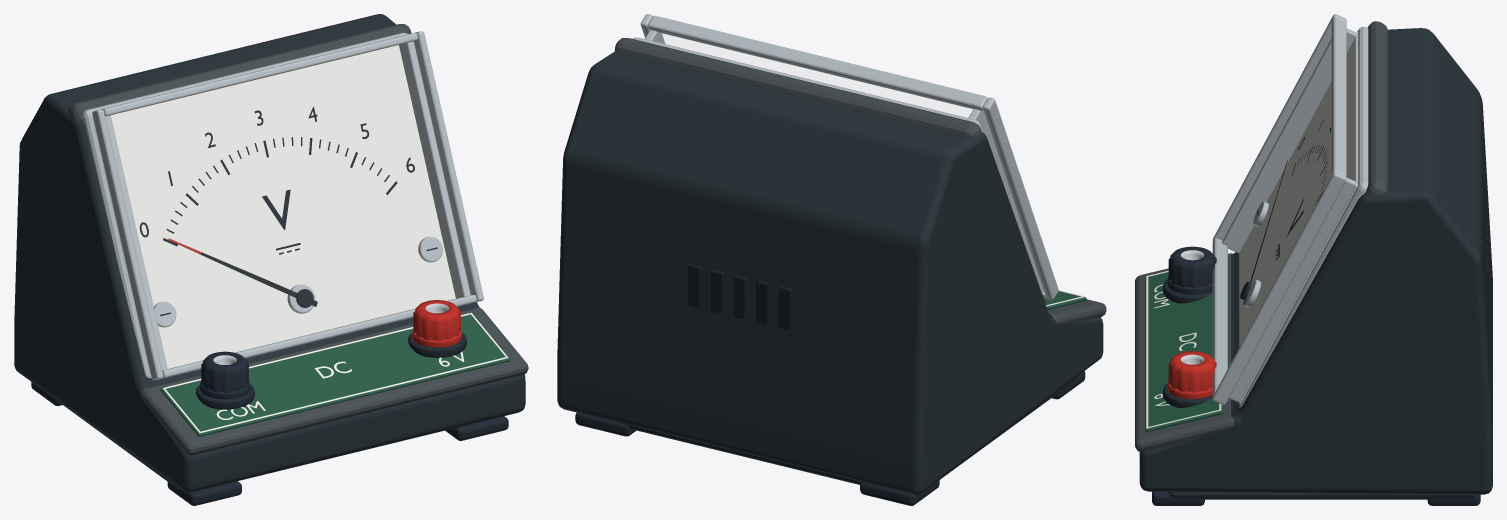
The model's file is analog-voltmeter.glb.
3 views of the same model, side by side, from view 1: azimuth 30°, elevation 25°; view 2: azimuth 150°, elevation 25°; view 3: azimuth 270°, elevation 25° (orthographic). The views are drawn at different scales.
Visible parts, largest first — view 1: Pale printed scale plate, One-piece tapered meter shell, Green laminate terminal board, Molded terminal shelf, Face window spacing rib.001, Meter head sealing rim, Polished window edge, Polished window edge.001, Dial plate backing, Polished window edge.003, Polished window edge.002, p binding socket (+8 smaller); view 2: One-piece tapered meter shell, Meter head sealing rim, Polished window edge.003, Polished window edge, Recessed bottom cover, Dial plate backing, Face window spacing rib, Molded terminal shelf, Rubber foot.001, Rubber foot.003; view 3: One-piece tapered meter shell, Pale printed scale plate, Green laminate terminal board, Face window spacing rib, Polished window edge.001, Molded terminal shelf, Meter head sealing rim, Dial plate backing, Face window spacing rib.001, Polished window edge, Polished window edge.003, Polished window edge.002 (+8 smaller).
Boxes of the visible parts, box(x1,y1,x2,y2) form: Pale printed scale plate: box(92, 45, 455, 374); One-piece tapered meter shell: box(14, 14, 525, 492); Green laminate terminal board: box(160, 313, 509, 436); Molded terminal shelf: box(140, 307, 528, 455); Face window spacing rib.001: box(399, 41, 470, 298); Meter head sealing rim: box(68, 24, 411, 120); Polished window edge: box(92, 109, 163, 380); Polished window edge.001: box(414, 31, 483, 301); Dial plate backing: box(82, 32, 407, 378); Polished window edge.003: box(100, 33, 418, 116); Polished window edge.002: box(162, 295, 476, 378); p binding socket: box(413, 300, 460, 341); One-piece tapered meter shell: box(557, 51, 1103, 494); Meter head sealing rim: box(614, 38, 982, 139); Polished window edge.003: box(648, 15, 987, 110); Polished window edge: box(982, 97, 1058, 300); Recessed bottom cover: box(583, 377, 1076, 495); Dial plate backing: box(633, 37, 982, 132); Face window spacing rib: box(968, 109, 1043, 294); Molded terminal shelf: box(1048, 299, 1106, 324); Rubber foot.001: box(860, 480, 939, 505); Rubber foot.003: box(575, 412, 636, 436); One-piece tapered meter shell: box(1139, 28, 1492, 494); Pale printed scale plate: box(1239, 32, 1357, 403); Green laminate terminal board: box(1145, 272, 1223, 432); Face window spacing rib: box(1222, 28, 1356, 253); Polished window edge.001: box(1212, 172, 1346, 405); Molded terminal shelf: box(1135, 253, 1233, 452); Meter head sealing rim: box(1365, 21, 1388, 198); Dial plate backing: box(1239, 26, 1368, 407); Face window spacing rib.001: box(1229, 177, 1356, 402); Polished window edge: box(1212, 14, 1346, 241); Polished window edge.003: box(1331, 17, 1346, 176); Polished window edge.002: box(1212, 238, 1227, 395).
Bounding box in the file's own units: 0.113 × 0.1047 × 0.1013.
